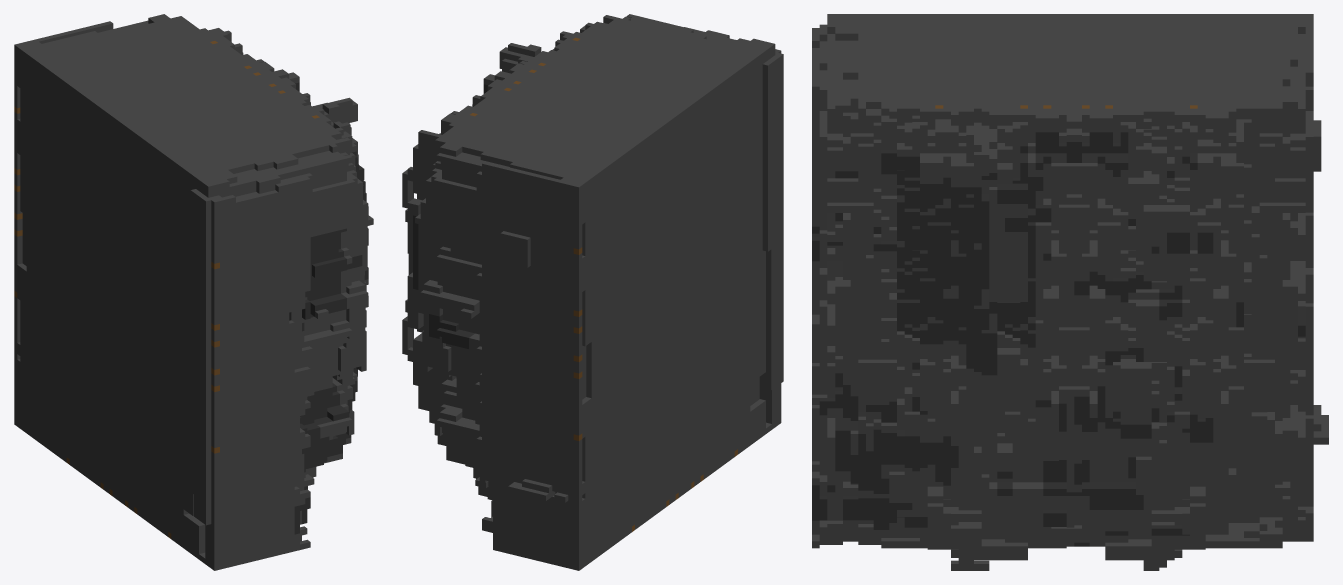
The model's file is mine stone wall.obj.
3 renders of one model, left to right at view 1: azimuth 30°, elevation 25°; view 2: azimuth 150°, elevation 25°; view 3: azimuth 270°, elevation 25°, orthographic. The views are drawn at different scales.
Size of the model in its own units: 4.1 by 6.8 by 6.7.
1 material, 1 textured.
